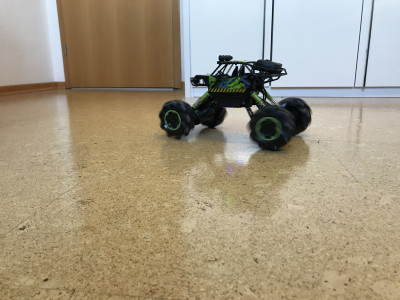remote control car: (156, 50, 315, 153)
